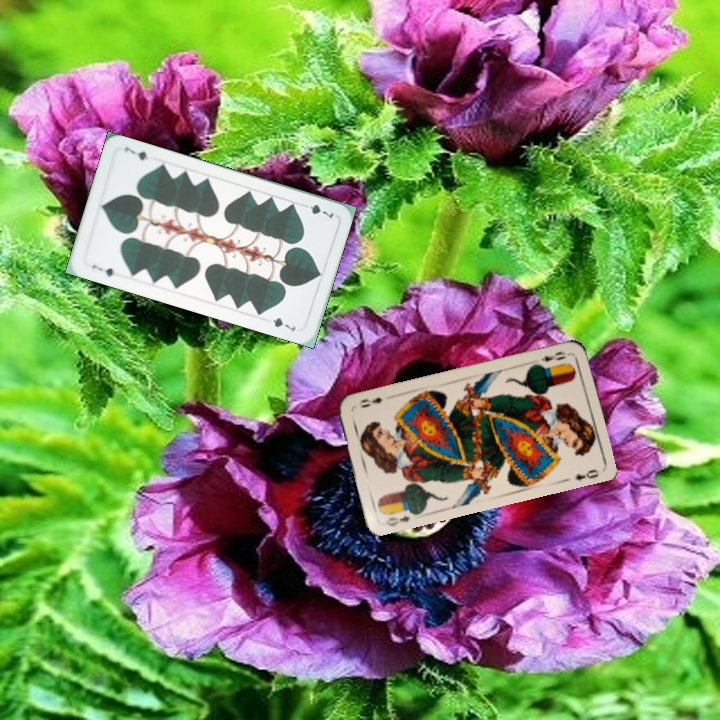EO: (382, 511, 412, 529), (537, 347, 568, 364)
G7: (298, 200, 336, 222), (88, 261, 122, 279)
